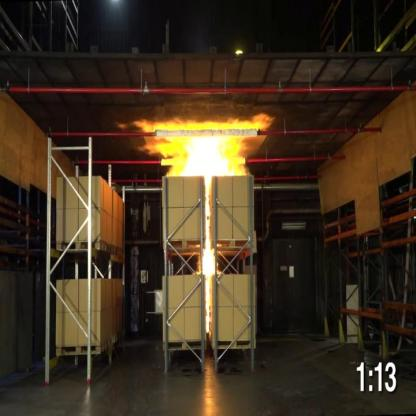fire: (119, 112, 270, 176), (196, 180, 218, 338)
